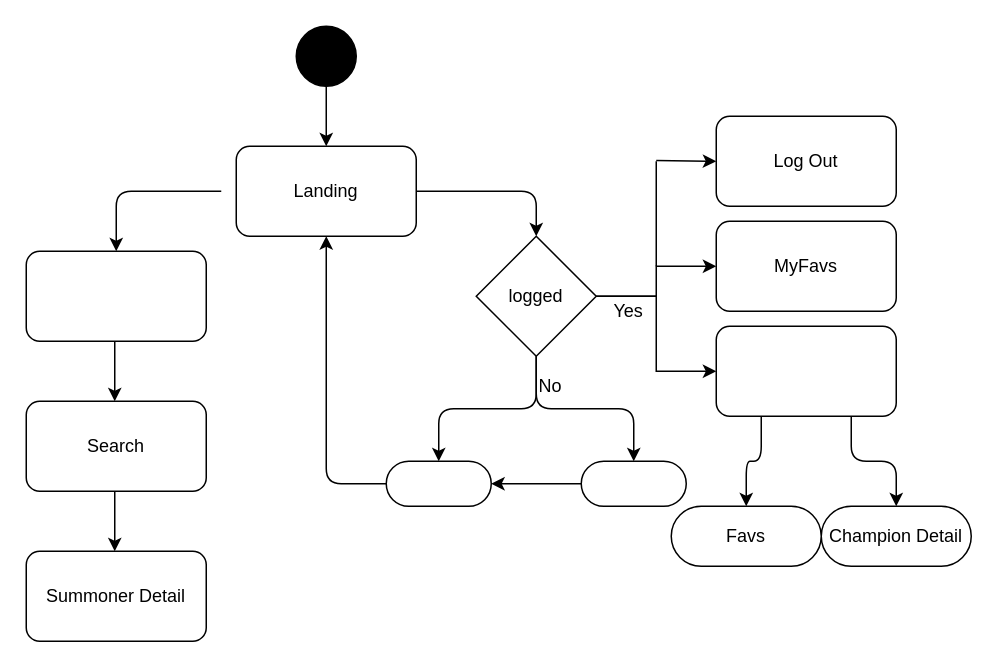
Some shapes in this 998 by 668 pixel diagram are drawn without their labels. The shapes that lost their labels are listed below. From the top down, each one's centre as x and y in pixels, then its label:
At (115,295): "Summoners".
At (805,370): "Champions".
At (438,483): "Login".
At (633,483): "Register".
